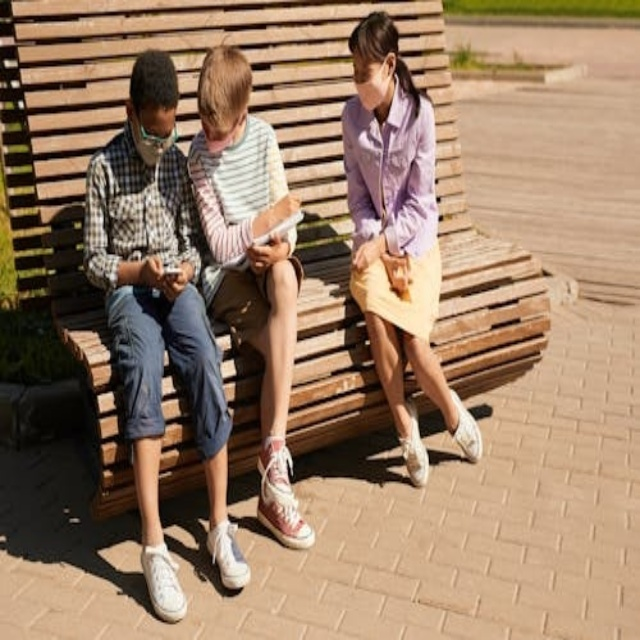Gafas: (137, 114, 177, 147)
Mascara: (131, 112, 175, 168), (354, 61, 392, 110), (197, 117, 243, 157)
Sin_guantes: (250, 226, 292, 269), (379, 245, 411, 291), (158, 268, 188, 303)
